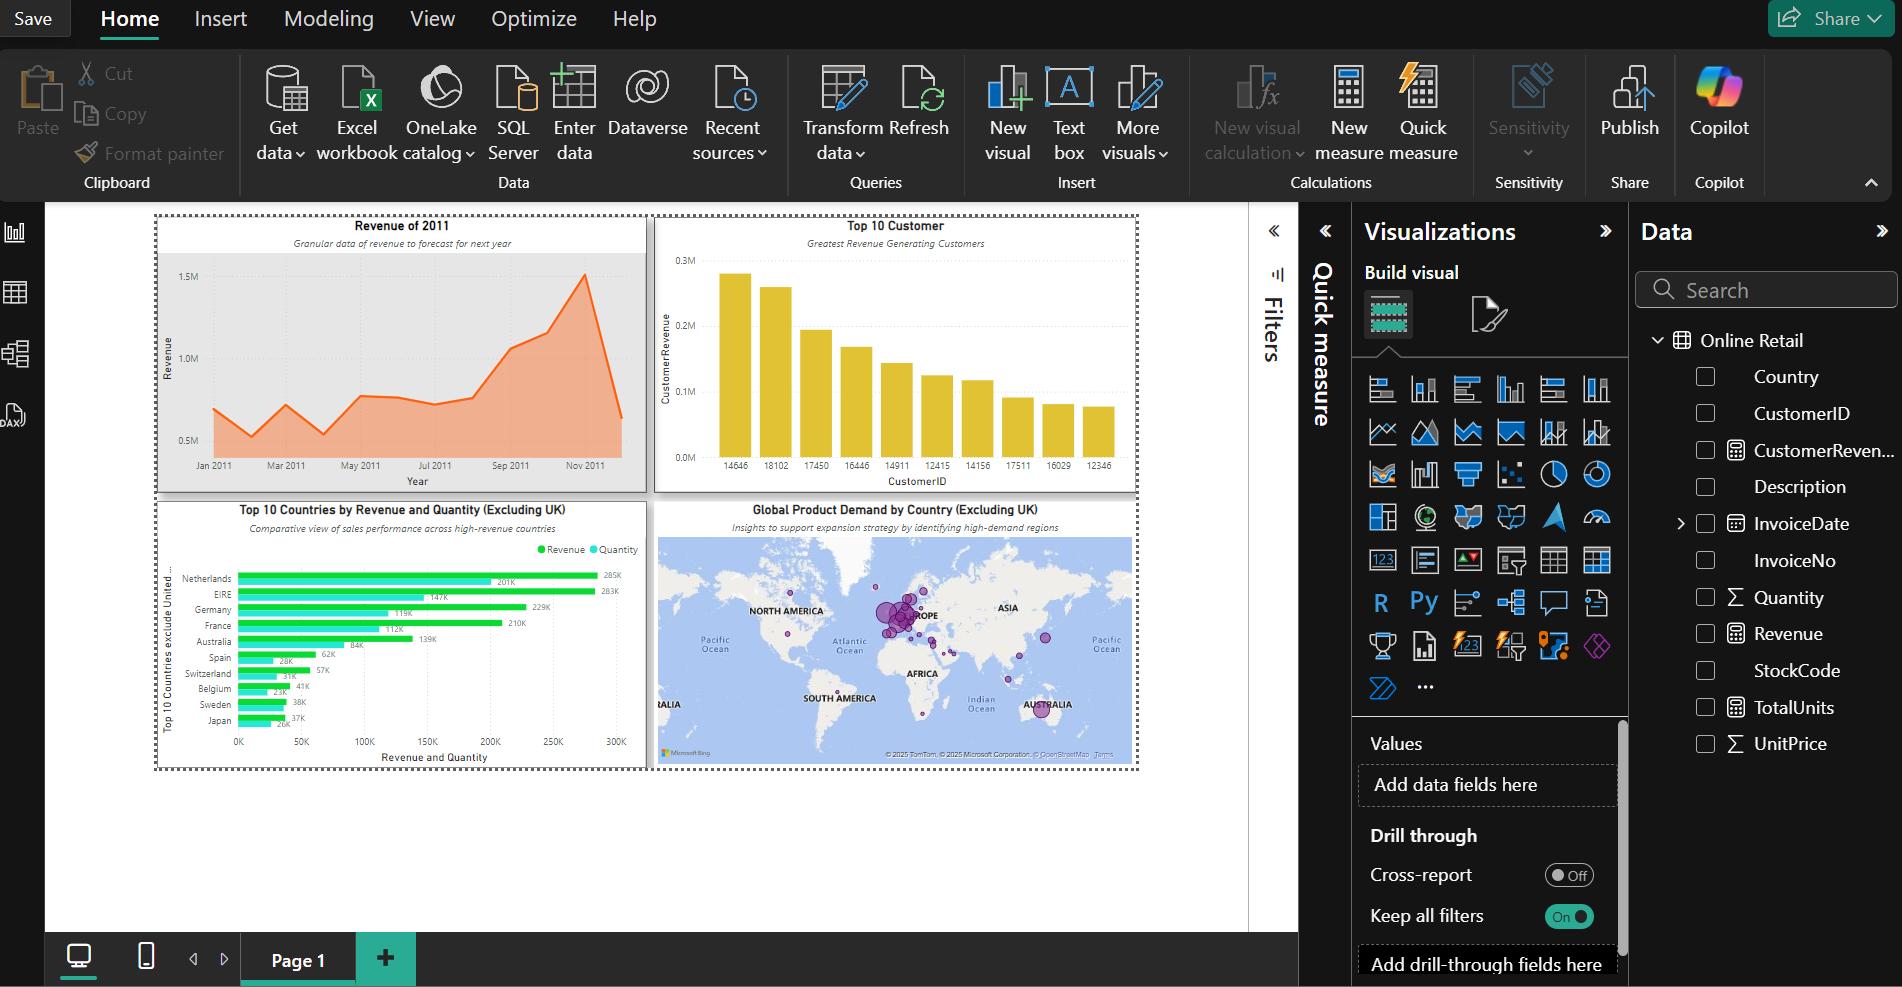

The dashboard page shown, as its layout file describes it:
{"tool":"powerbi","page":{"name":"Page 1","canvas":[1280,720],"ordinal":0},"visuals":[{"type":"lineChart","title":"Revenue of 2011","fields":{"Y":["Online Retail.Revenue"],"Category":["Online Retail.InvoiceDate.Variation.Date Hierarchy.Year","Online Retail.InvoiceDate.Variation.Date Hierarchy.Month"]},"box":[0,0,640,360],"z":0},{"type":"clusteredBarChart","title":"Top 10 Countries by Revenue and Quantity (Excluding UK)","fields":{"Category":["Online Retail.Country"],"Y":["Online Retail.Revenue","Online Retail.Quantity"]},"box":[0,371.7,640,348.3],"z":1000},{"type":"clusteredColumnChart","title":"Top 10 Customer","fields":{"Y":["Online Retail.CustomerRevenue"],"Category":["Online Retail.CustomerID"]},"box":[650,0,630,360],"z":1001},{"type":"map","title":"Global Product Demand by Country (Excluding UK)","fields":{"Category":["Online Retail.Country"],"Size":["Online Retail.TotalUnits"]},"box":[650,372,630,348],"z":1002}]}

Visuals, with their boxes on the page's 1280x720 design canvas (x1, y1, x2, y2). These are canvas units, not pixel positions in the 1902x987 screenshot, which may show the page scaled, cropped or inside an application window:
"Revenue of 2011" lineChart: pyautogui.locateOnScreen(0, 0, 640, 360)
"Top 10 Countries by Revenue and Quantity (Excluding UK)" clusteredBarChart: pyautogui.locateOnScreen(0, 372, 640, 720)
"Top 10 Customer" clusteredColumnChart: pyautogui.locateOnScreen(650, 0, 1280, 360)
"Global Product Demand by Country (Excluding UK)" map: pyautogui.locateOnScreen(650, 372, 1280, 720)
